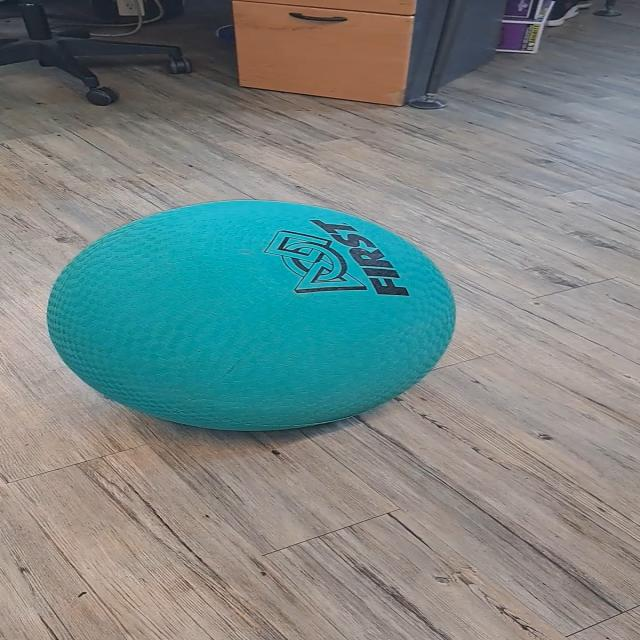ALGAE: (44, 198, 458, 432)
